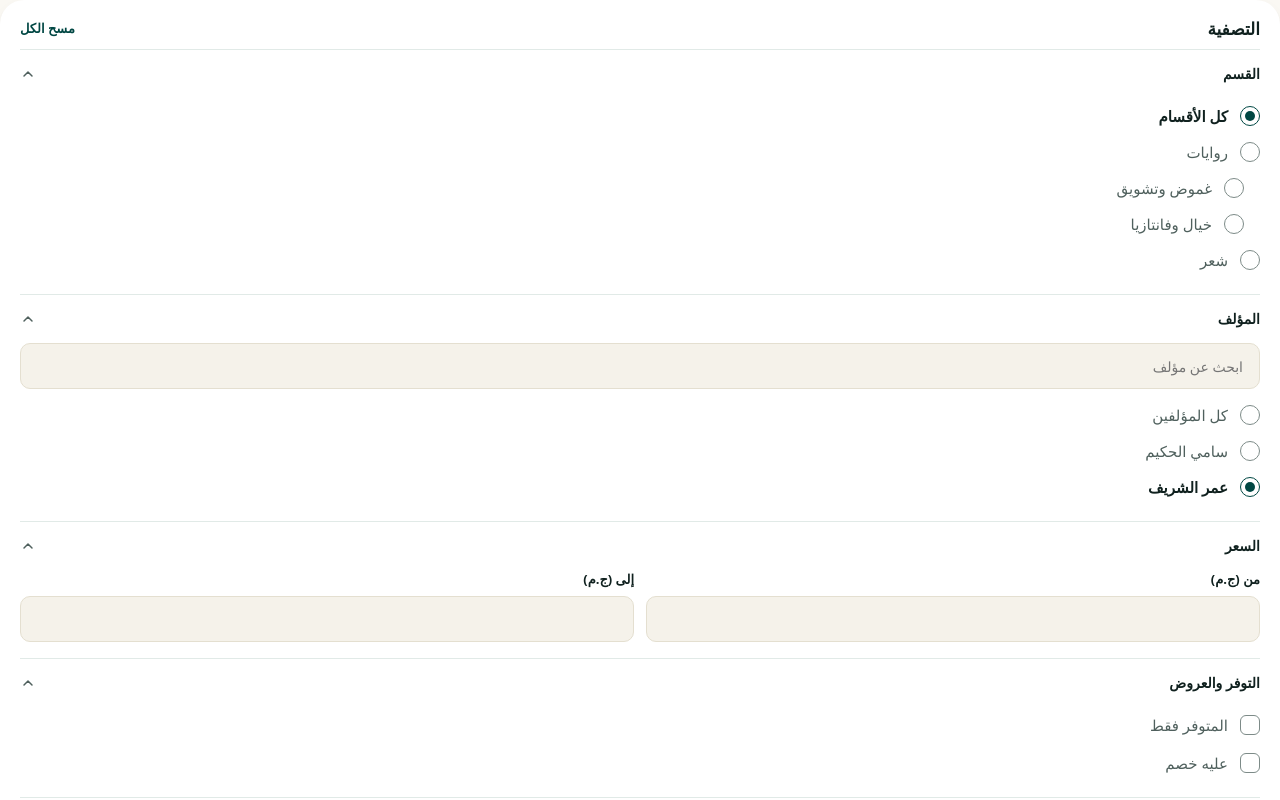
Scenario: FilterPanel sidebar › filters the author list by text without navigating and keeps the selected author visible
Type "سامي الحكيم" into the search field labelled "ابحث عن مؤلف" at x=640, y=366, box [20, 343, 1260, 389]
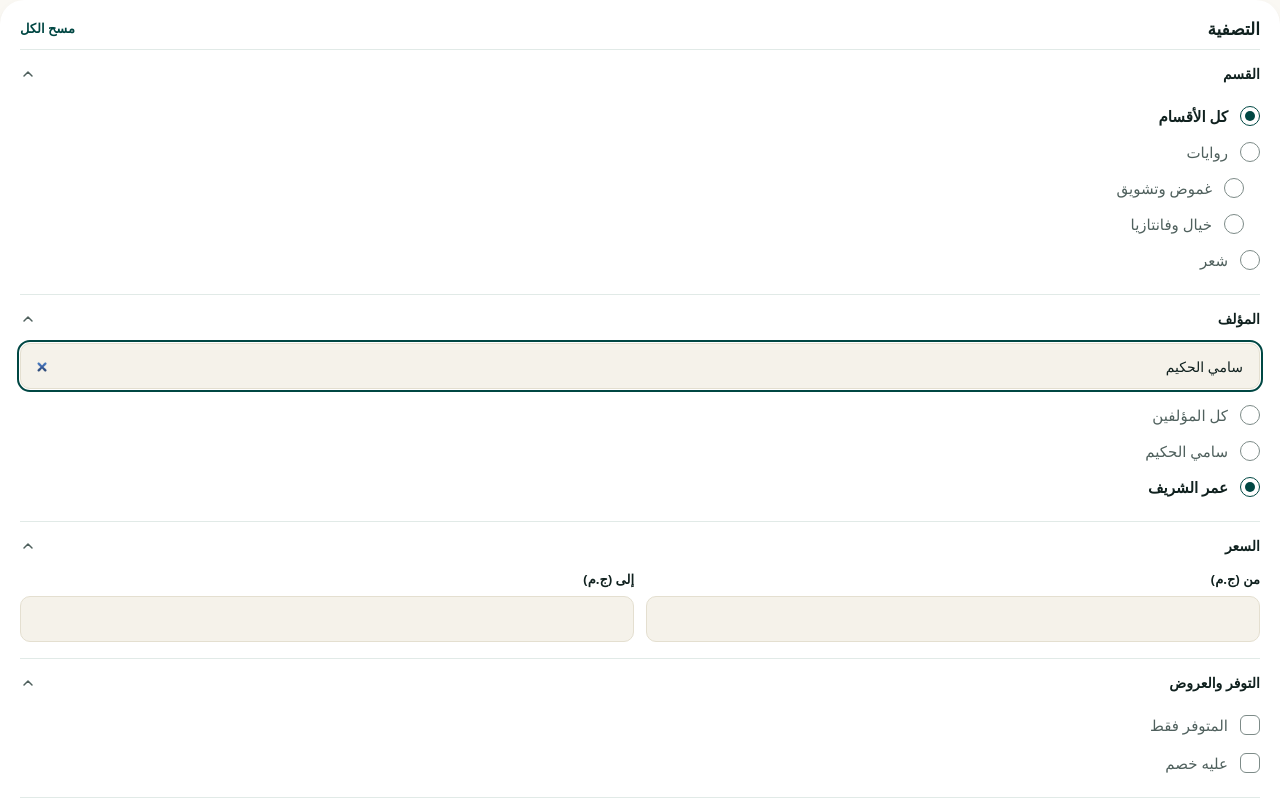
Check: the radio button labelled "سامي الحكيم" is shown, box [1240, 441, 1260, 461]
Check: the radio button labelled "عمر الشريف" is checked, box [1240, 477, 1260, 497]
Type "zzz" into the search field at x=640, y=366, box [20, 343, 1260, 389]
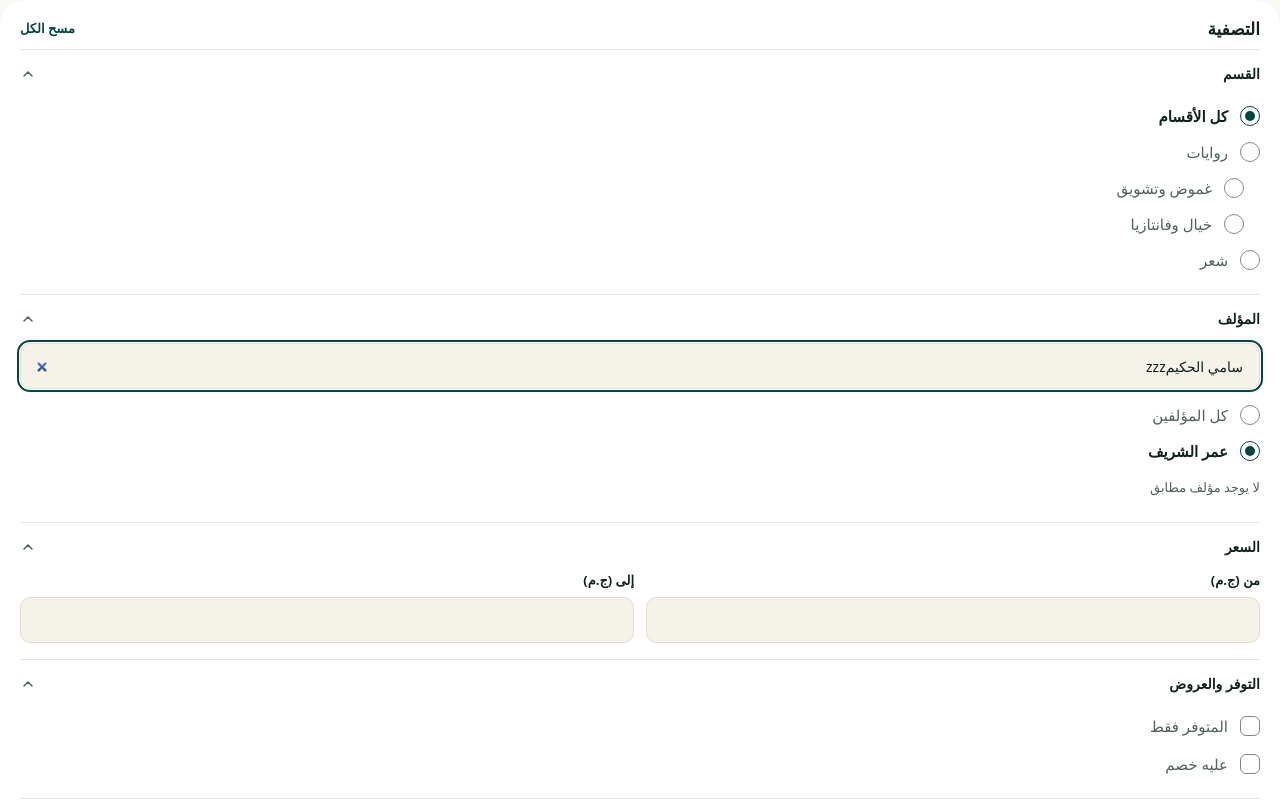
Check: the text "لا يوجد مؤلف مطابق" is shown, box [1150, 478, 1260, 496]
